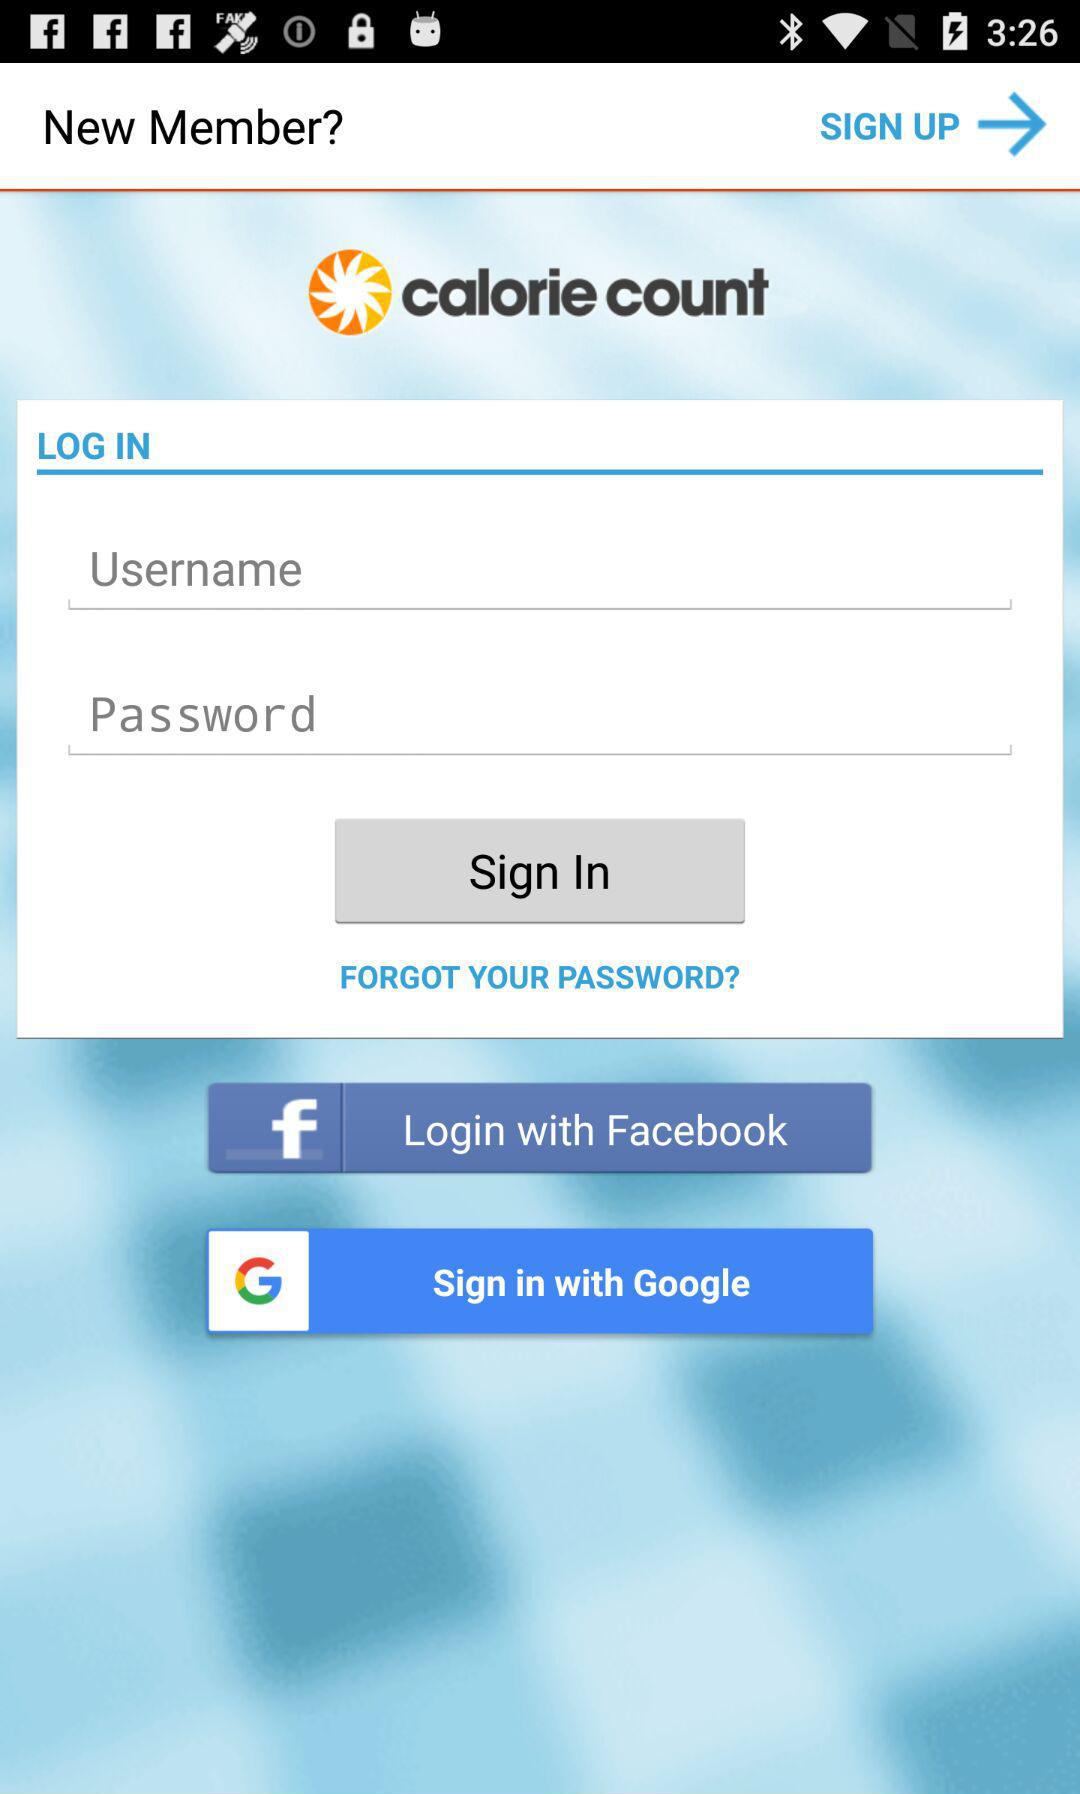EditText: (68, 695, 1013, 757), (68, 552, 1013, 611)
Icon: (978, 92, 1048, 159)
Image: (307, 249, 395, 338)
Text: (401, 267, 771, 320), (46, 108, 345, 147), (341, 965, 740, 991), (92, 695, 315, 734), (92, 551, 302, 588), (820, 111, 960, 144), (38, 432, 151, 461)
TextButton: (206, 1228, 874, 1335), (208, 1082, 872, 1175), (334, 818, 746, 925)
Toolbar: (1, 64, 1080, 192)
UpperTaskBar: (1, 1, 1080, 64)
